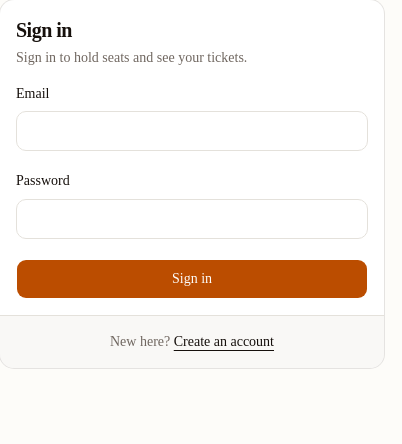
Test case: LoginForm › says when the credentials are wrong, keeping what was typed
This screenshot has width=402, height=444.
Type "ann@example.com" into the field labelled "Email" at x=192, y=131, box [16,111,368,151]
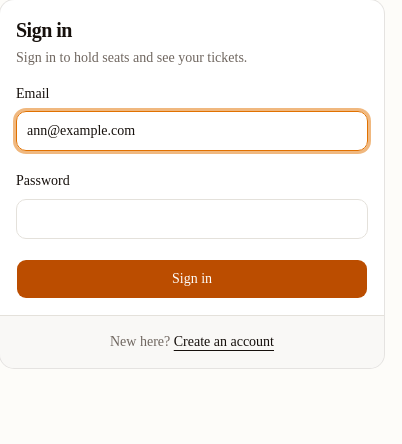
Type "wrong-password" into the password field labelled "Password" at x=192, y=218, box [16,198,368,238]
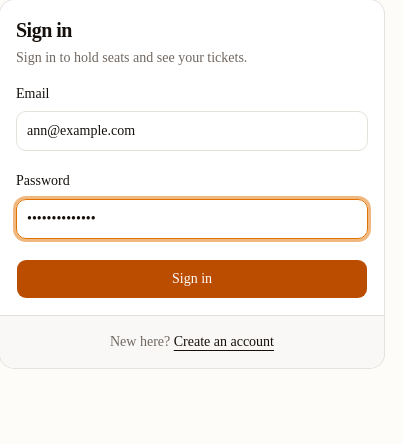
Click the button "Sign in" at x=192, y=278, box [16,258,368,298]
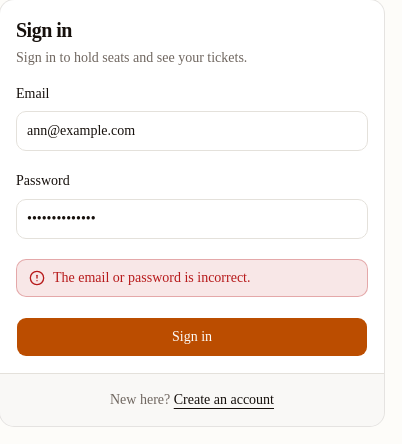
Expected: the message reads "The email or password is incorrect.", [53,270,250,284]
